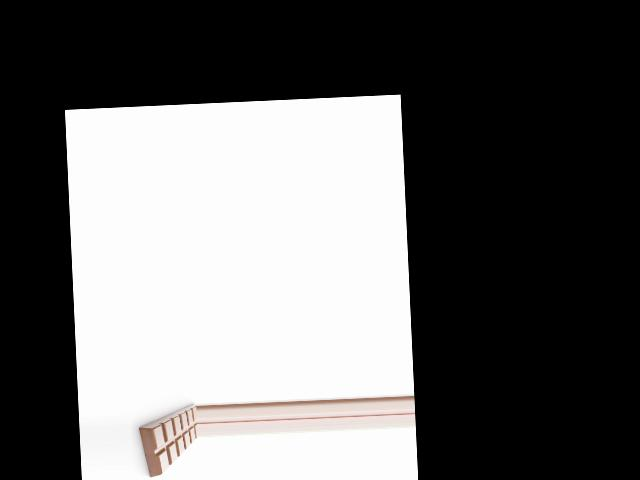chocolate: (136, 399, 198, 478)
